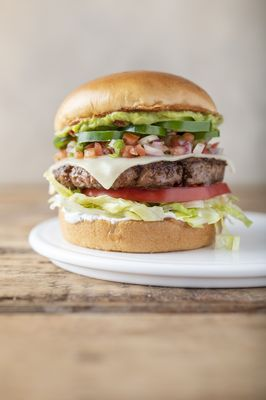soup: (44, 70, 252, 253)
